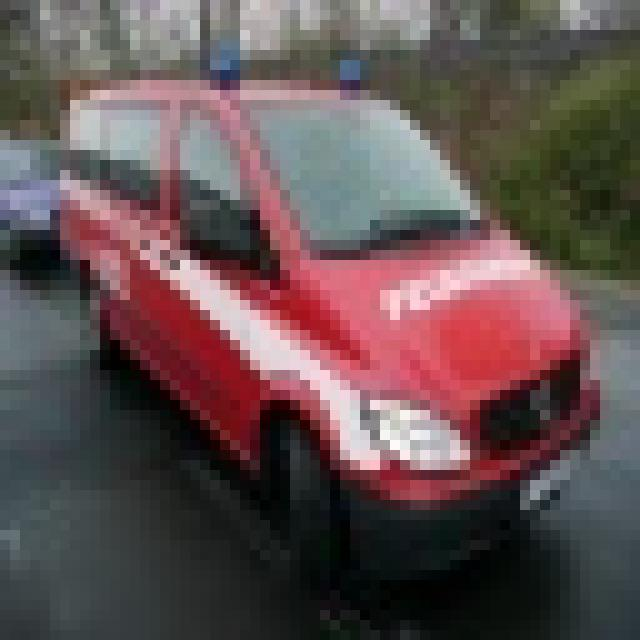Ambulance: (50, 50, 600, 590)
